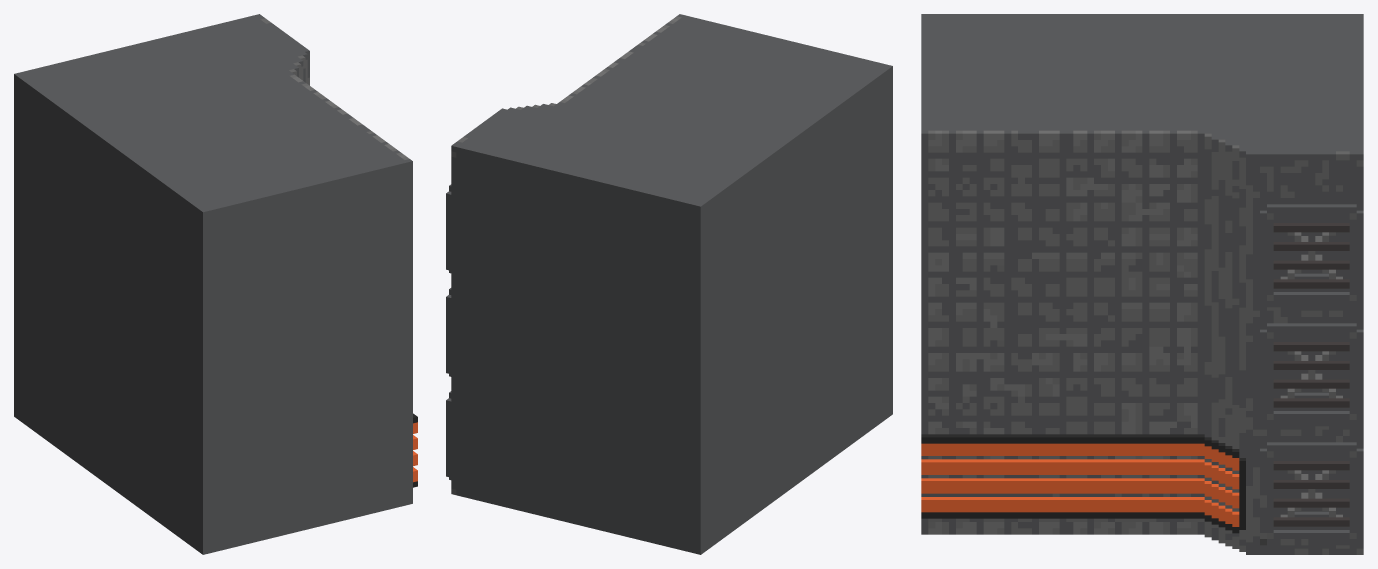
File: MapWIP_v02-4.obj
3 views of the same model, side by side, from view 1: azimuth 30°, elevation 25°; view 2: azimuth 150°, elevation 25°; view 3: azimuth 270°, elevation 25° (orthographic). The views are drawn at different scales.
Size of the model in its own units: 4.9 by 6.4 by 6.4.
Materials: 1 (1 with a texture image).
